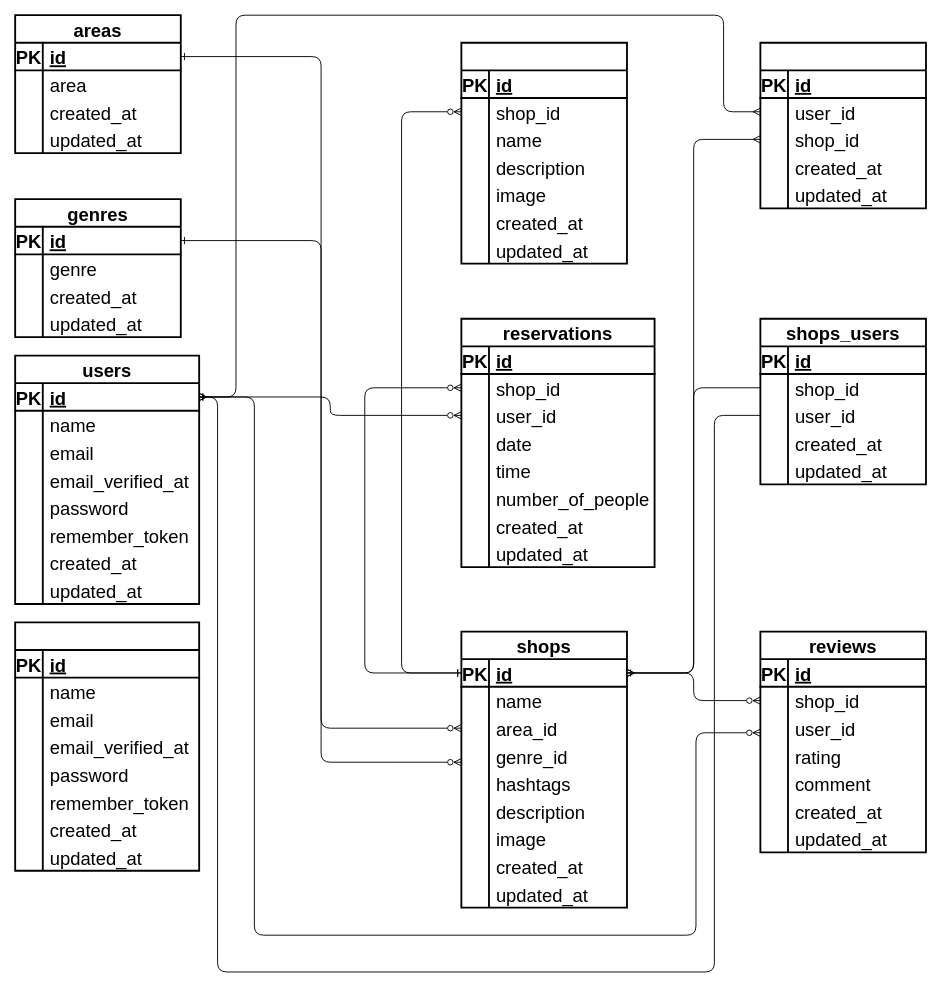
Some shapes in this 941 by 987 pixel diagram are drawn without their labels. Each missing label, with the box of its shape:
details: (460, 41, 627, 264)
favorites: (759, 41, 926, 209)
representatives: (14, 621, 200, 871)
